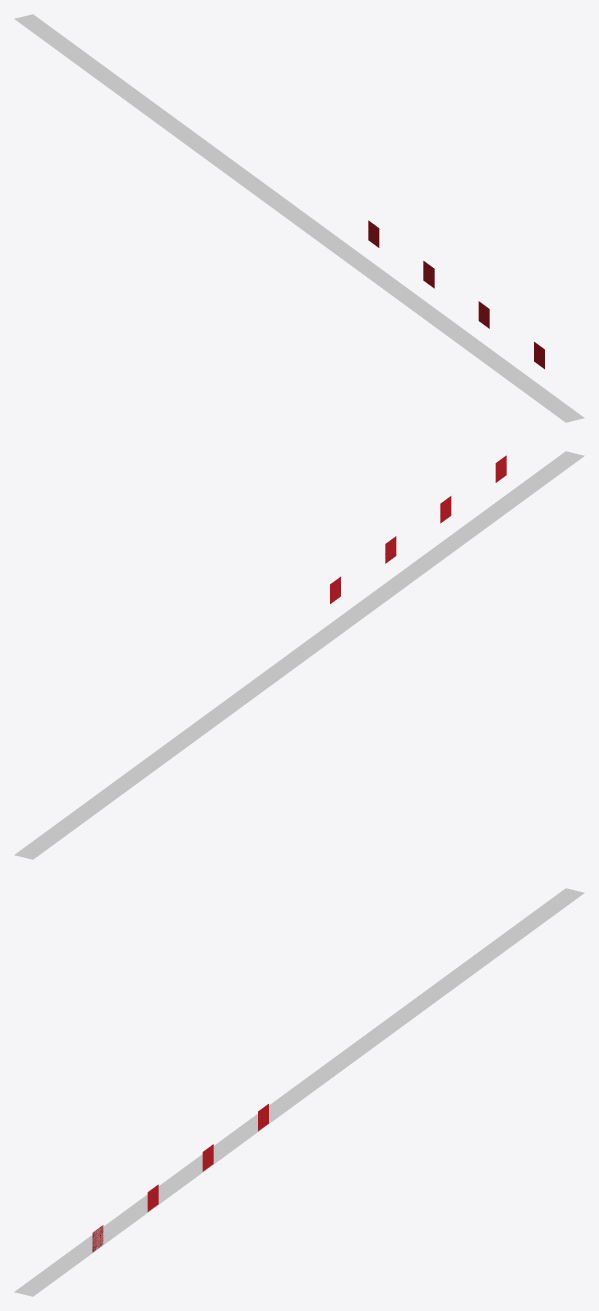
3 renders of one model, top to bottom at view 1: azimuth 30°, elevation 25°; view 2: azimuth 150°, elevation 25°; view 3: azimuth 330°, elevation 25°, orthographic.
Parts seen in each view (by area): view 1: 平面; view 2: 平面; view 3: 平面.
Boxes of the visible parts, box(x1,y1,x2,y2) form: 平面: box(14, 14, 584, 422); 平面: box(14, 451, 584, 859); 平面: box(14, 888, 584, 1296).
Bounding box in the file's own units: 3 × 3 × 100.
